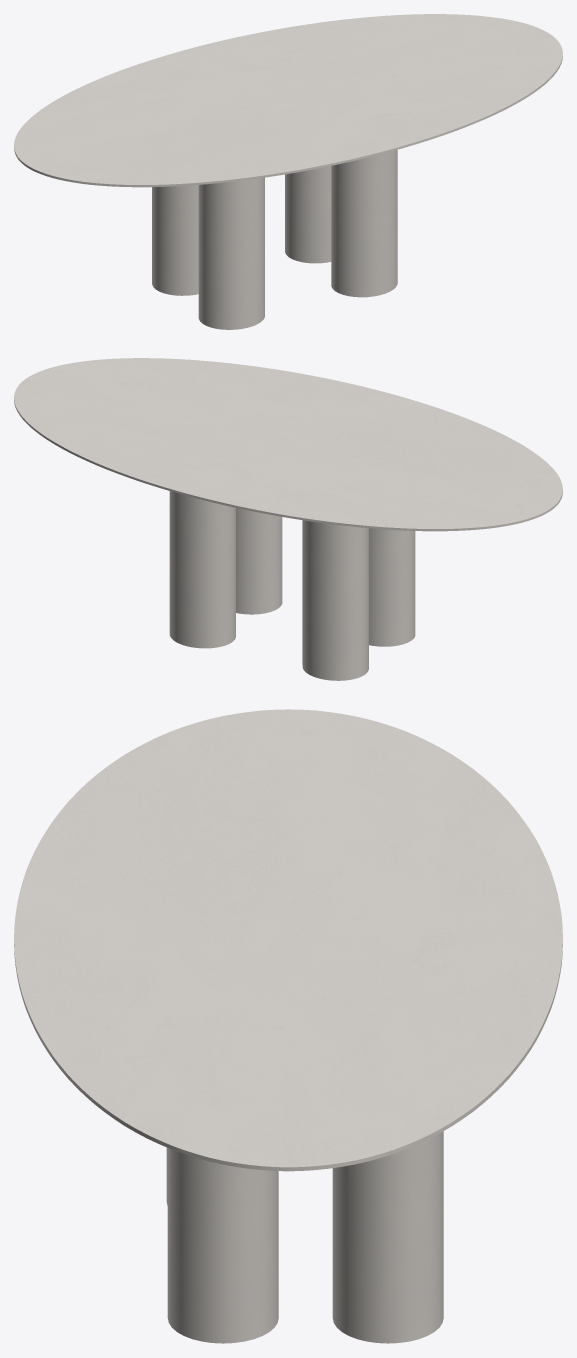
Rendered from pearlwhite_ellips_facet_grove.glb.
3 renders of one model, top to bottom at view 1: azimuth 30°, elevation 25°; view 2: azimuth 150°, elevation 25°; view 3: azimuth 270°, elevation 25°, orthographic. The views are drawn at different scales.
Visible parts, largest first — view 1: facet_ellips, grove; view 2: facet_ellips, grove; view 3: facet_ellips, grove.
Boxes of the visible parts, x1,y1,x2,y2 form: facet_ellips: (14,14,562,187); grove: (152,150,397,329); facet_ellips: (14,358,562,531); grove: (169,491,415,680); facet_ellips: (14,709,562,1171); grove: (166,1131,443,1343).
Size of the model in its own units: 7.5 by 2.52 by 3.8.
Materials: 1 (1 with a texture image).
